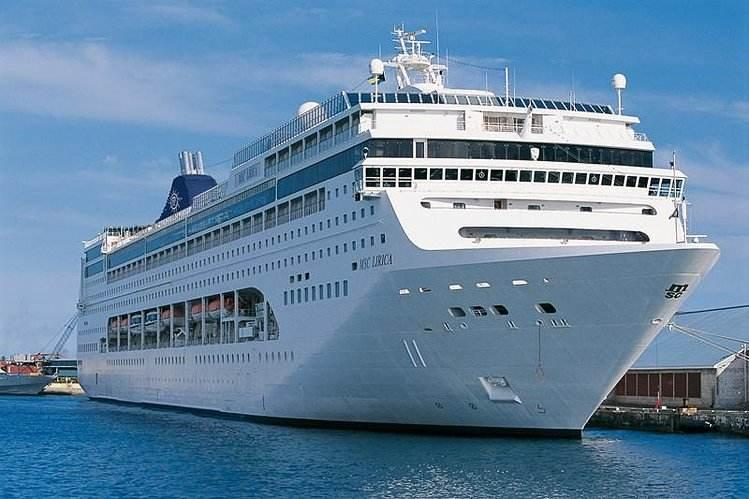youlun: (75, 23, 721, 436)
